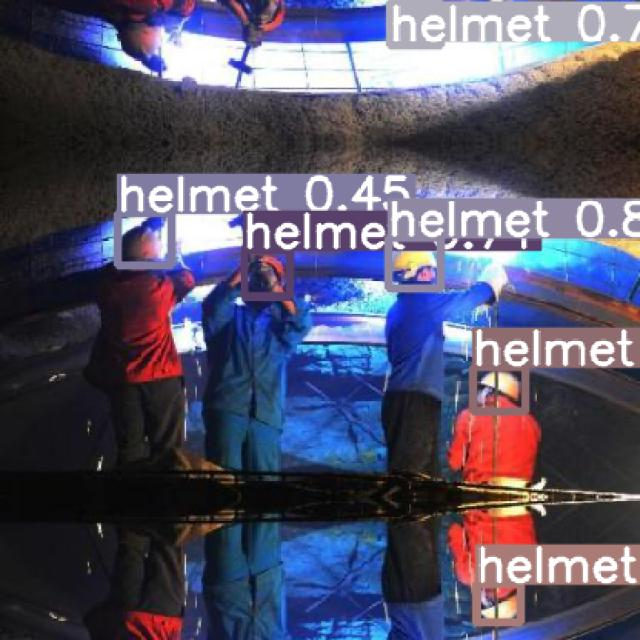helmet: (117, 212, 171, 265), (388, 237, 440, 288), (472, 366, 525, 411), (389, 1, 440, 44), (243, 250, 289, 296), (475, 583, 520, 622)
